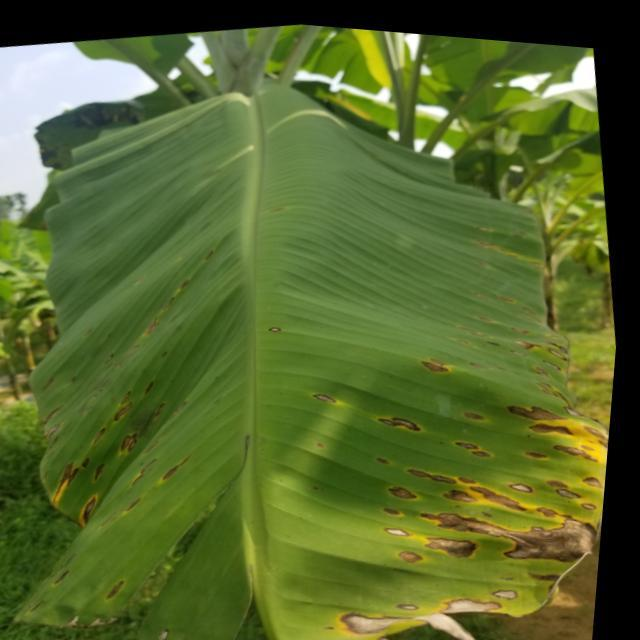Early_rust: (244, 271, 613, 640), (11, 249, 261, 640)
